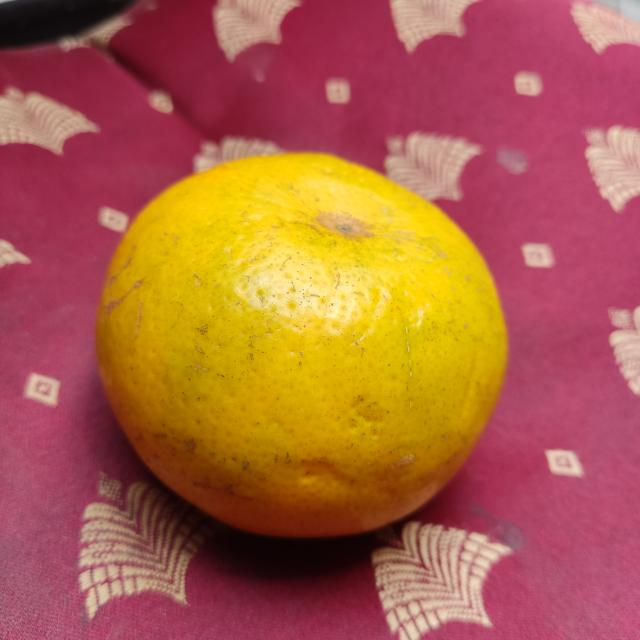orange: (90, 146, 514, 544)
